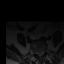CCS_normal: (39, 50, 41, 57)
LFS_normal: (43, 49, 45, 54)
LLS_normal: (41, 49, 43, 55)
RFS_normal: (35, 50, 37, 55)
RLS_normal: (37, 50, 39, 57)
